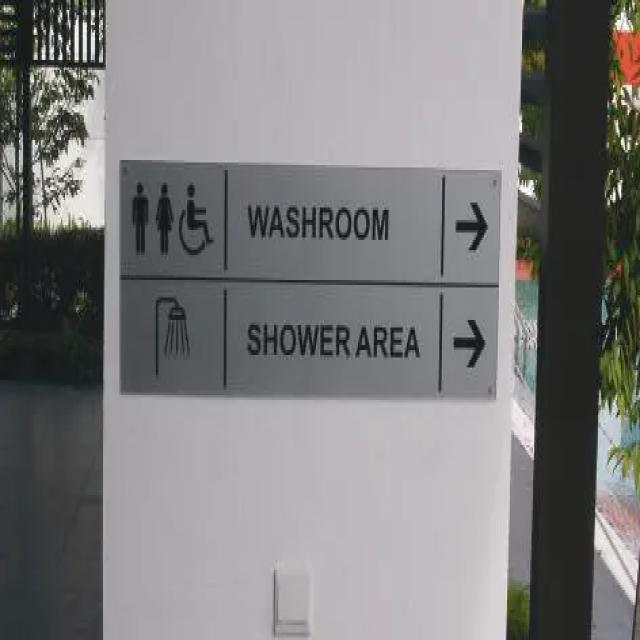toilet_icon: (128, 161, 218, 270)
